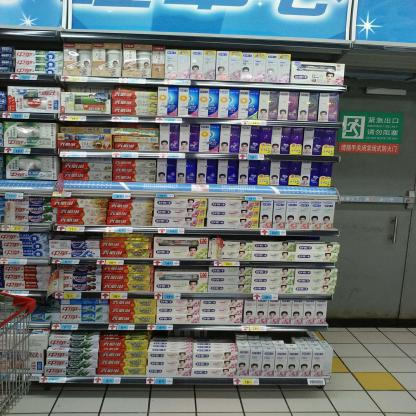Void: (156, 332, 236, 342), (16, 36, 62, 52), (296, 48, 342, 62), (67, 82, 114, 94)
